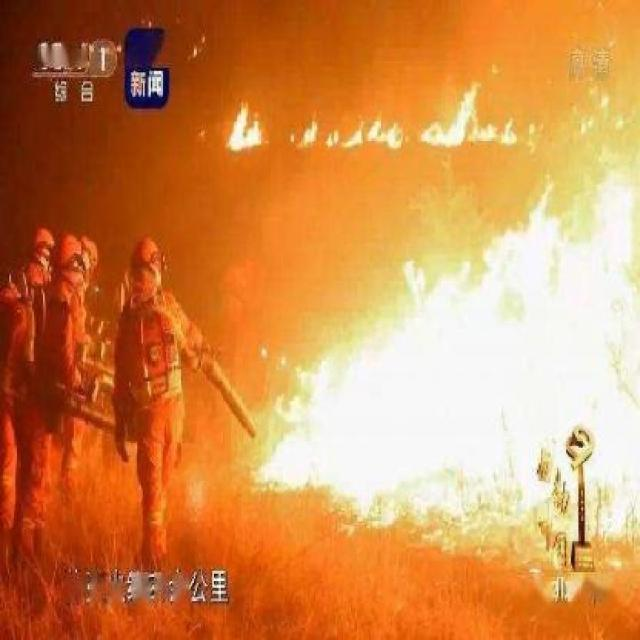Fire: (248, 166, 637, 563), (215, 81, 616, 150)
